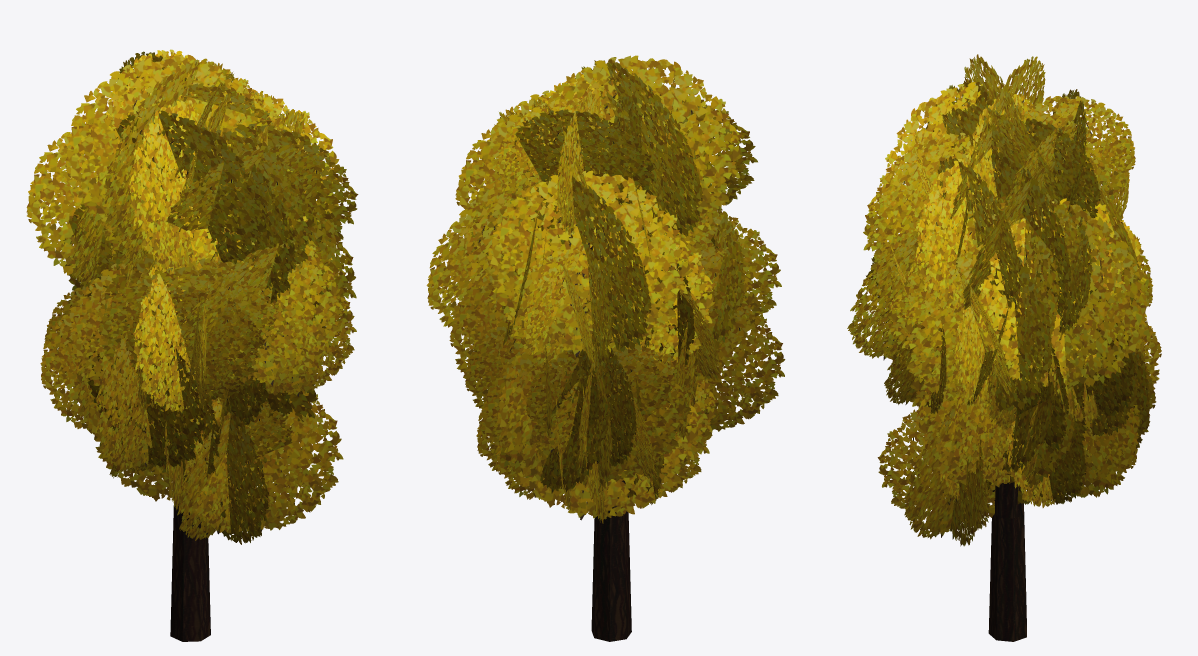
Rendered from ginkgo_autumn.glb.
The picture shows the model from 3 angles, left to right: view 1: azimuth 30°, elevation 25°; view 2: azimuth 150°, elevation 25°; view 3: azimuth 270°, elevation 25°; orthographic projection. The views are drawn at different scales.
Parts seen in each view (by area): view 1: tree_ginkgo; view 2: tree_ginkgo; view 3: tree_ginkgo.
Boxes of the visible parts, x1,y1,x2,y2 form: tree_ginkgo: (26,49,358,641); tree_ginkgo: (426,55,785,641); tree_ginkgo: (847,54,1161,641).
Size of the model in its own units: 6.43 by 12.74 by 7.23.
3 materials, 3 textured.
